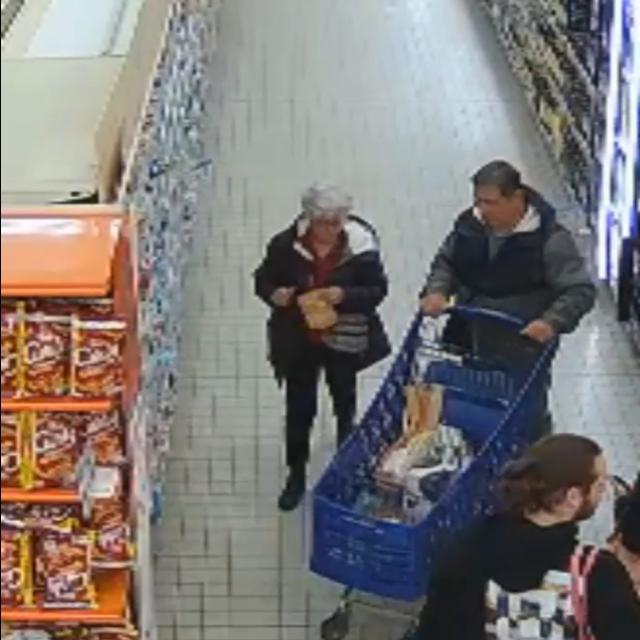article: (297, 288, 338, 331)
bags: (487, 548, 598, 639), (320, 313, 370, 354)
hands: (522, 320, 556, 343), (421, 294, 449, 317), (320, 287, 344, 306), (271, 288, 294, 307)
person: (255, 185, 391, 510), (414, 435, 607, 639), (422, 160, 596, 343)
